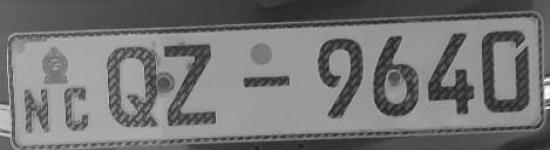-: (241, 72, 296, 93)
0: (478, 28, 534, 116)
4: (426, 30, 478, 119)
6: (371, 29, 425, 124)
9: (312, 35, 368, 125)
C: (64, 84, 92, 134)
N: (21, 87, 51, 136)
Q: (102, 42, 161, 131)
Z: (162, 42, 222, 131)
